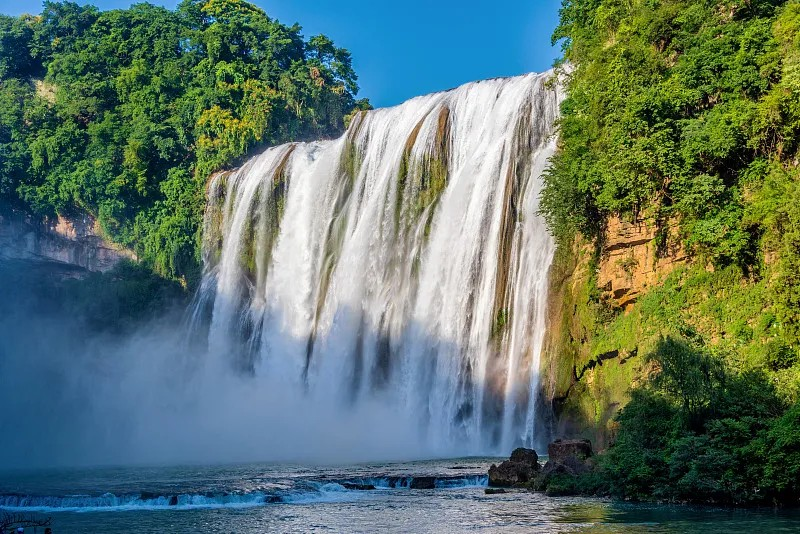Huangguoshu: (188, 66, 555, 460)
